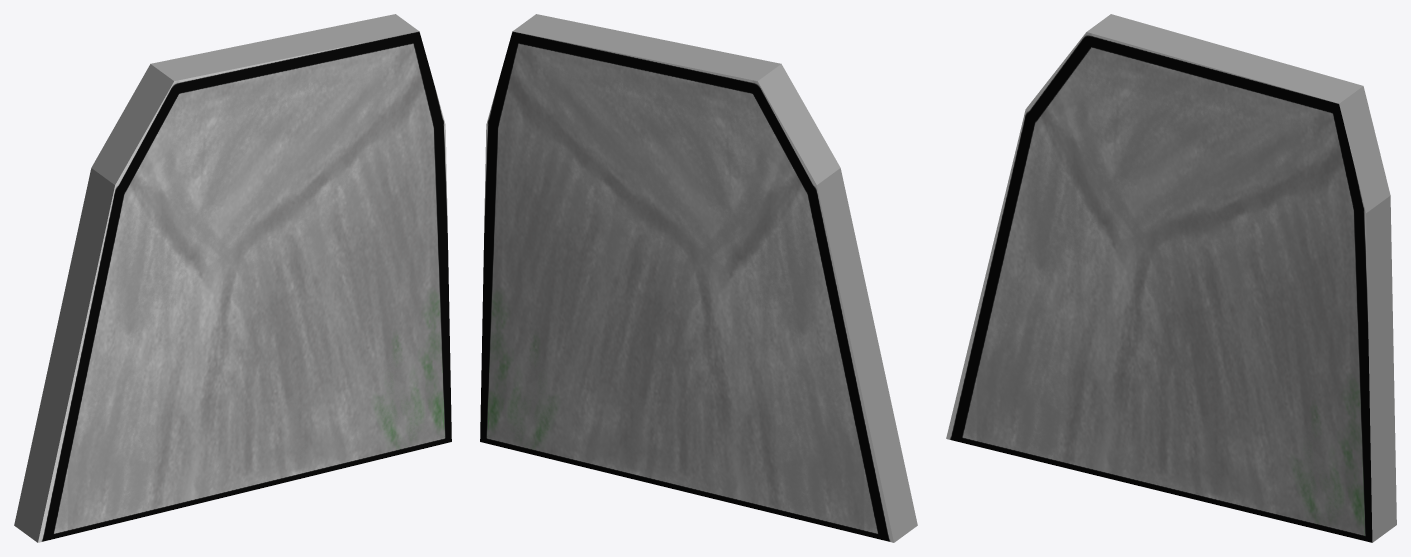
The model's file is BigStone_01.FBX.
3 renders of one model, left to right at view 1: azimuth 30°, elevation 25°; view 2: azimuth 150°, elevation 25°; view 3: azimuth 330°, elevation 25°, orthographic. The views are drawn at different scales.
Parts seen in each view (by area): view 1: Line001; view 2: Line001; view 3: Line001.
Part boxes in pixels (box(x1,y1,x2,y2)): Line001: box(14, 14, 451, 542); Line001: box(480, 14, 917, 542); Line001: box(946, 14, 1396, 542).
Size of the model in its own units: 79.06 by 78.19 by 7.87.
1 material, 1 textured.
